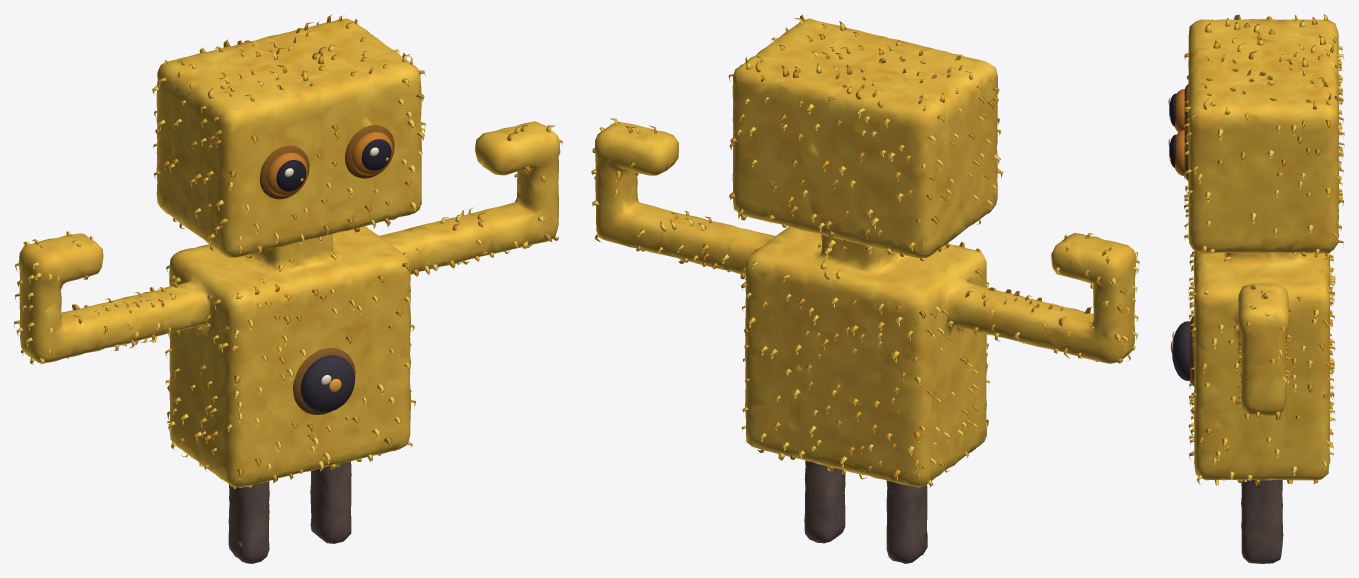
Rendered from 08-robotmonster-mini.glb.
3 views of the same model, side by side, from view 1: azimuth 30°, elevation 25°; view 2: azimuth 150°, elevation 25°; view 3: azimuth 270°, elevation 25° (orthographic).
Parts seen in each view (by area): view 1: head_001, arm_l_002, head_002, body_017, arm_l_005, body_009, body_021, arm_r_003, head_017, body_002, head_025, head_013 (+38 smaller); view 2: arm_l_001, head_028, body_015, arm_l_005, body_019, arm_r_003, head_008, body_001, head_030, head_020, head_004, leg_l_002 (+38 smaller); view 3: body_002, body_001, body_012, arm_r_003, body_014, head_004, head_012, head_003, head_011, body_010, body_008, leg_r_002 (+26 smaller).
Part boxes in pixels (box(x1,y1,x2,y2)): head_001: box(190, 77, 273, 178); arm_l_002: box(153, 214, 254, 356); head_002: box(190, 153, 273, 241); body_017: box(199, 334, 275, 422); arm_l_005: box(14, 231, 100, 313); body_009: box(293, 326, 366, 414); body_021: box(195, 396, 275, 479); arm_r_003: box(474, 121, 562, 192); head_017: box(321, 125, 394, 218); body_002: box(349, 192, 429, 321); head_025: box(259, 145, 321, 229); head_013: box(305, 67, 378, 156); arm_l_001: box(899, 214, 1002, 355); head_028: box(880, 91, 946, 178); body_015: box(880, 333, 957, 417); arm_l_005: box(1054, 233, 1139, 314); body_019: box(881, 394, 957, 479); arm_r_003: box(591, 118, 678, 196); head_008: box(780, 63, 851, 156); body_001: box(727, 192, 806, 321); head_030: box(880, 166, 947, 239); head_020: box(832, 79, 899, 168); head_004: box(728, 56, 800, 144); leg_l_002: box(837, 454, 957, 563); body_002: box(1184, 214, 1262, 351); body_001: box(1262, 217, 1343, 352); body_012: box(1260, 391, 1333, 469); arm_r_003: box(1237, 283, 1290, 366); body_014: box(1189, 391, 1260, 469); head_004: box(1297, 80, 1343, 173); head_012: box(1224, 85, 1262, 173); head_003: box(1262, 81, 1299, 173); head_011: box(1183, 83, 1224, 175); body_010: box(1190, 333, 1243, 411); body_008: box(1283, 335, 1335, 411); leg_r_002: box(1261, 441, 1332, 563).
Bounding box in the file's own units: 5.65 × 5 × 1.64.
